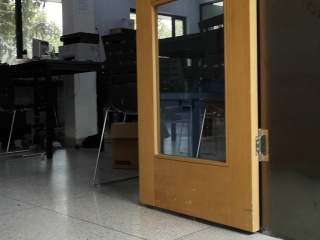room: (133, 2, 320, 236)
